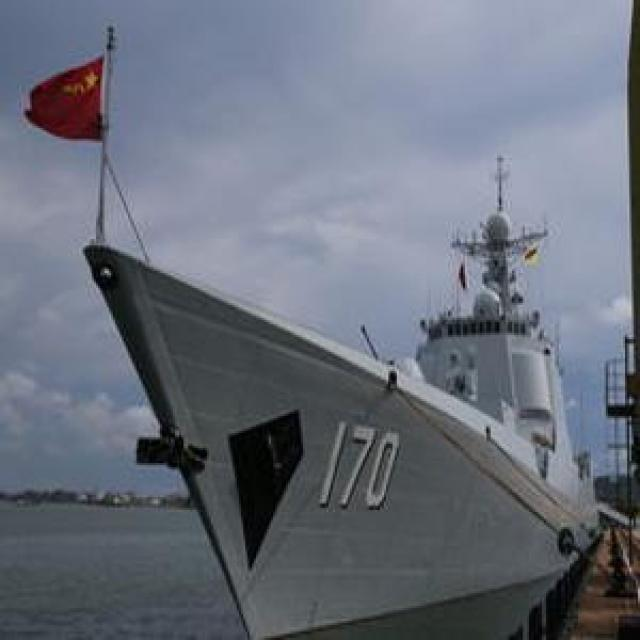navalvessels: (69, 175, 609, 626)
